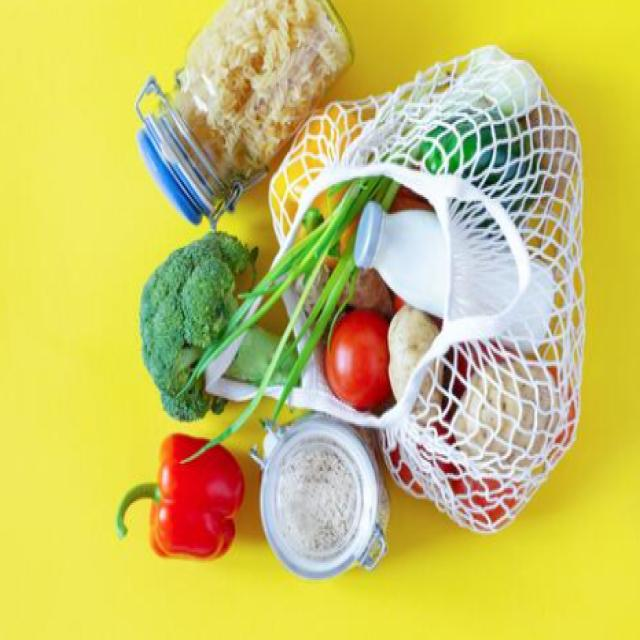paper: (146, 237, 296, 415), (138, 434, 253, 587), (326, 304, 391, 405)
